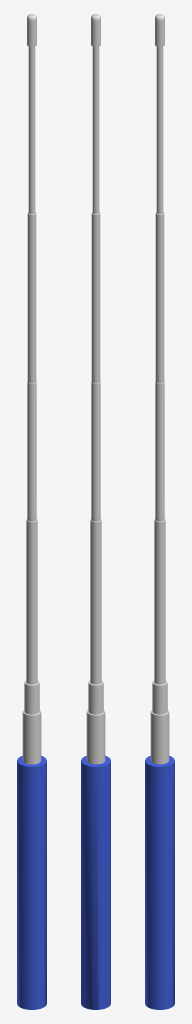
The model's file is Laser.fbx.
3 renders of one model, left to right at view 1: azimuth 90°, elevation 25°; view 2: azimuth 150°, elevation 25°; view 3: azimuth 270°, elevation 25°, orthographic.
Parts seen in each view (by area): view 1: Cylinder; view 2: Cylinder; view 3: Cylinder.
Part boxes in pixels (x1,y1,x2,y2): Cylinder: (17,14,46,1009); Cylinder: (81,14,110,1009); Cylinder: (145,14,174,1009).
Size of the model in its own units: 200 by 7296 by 200.
